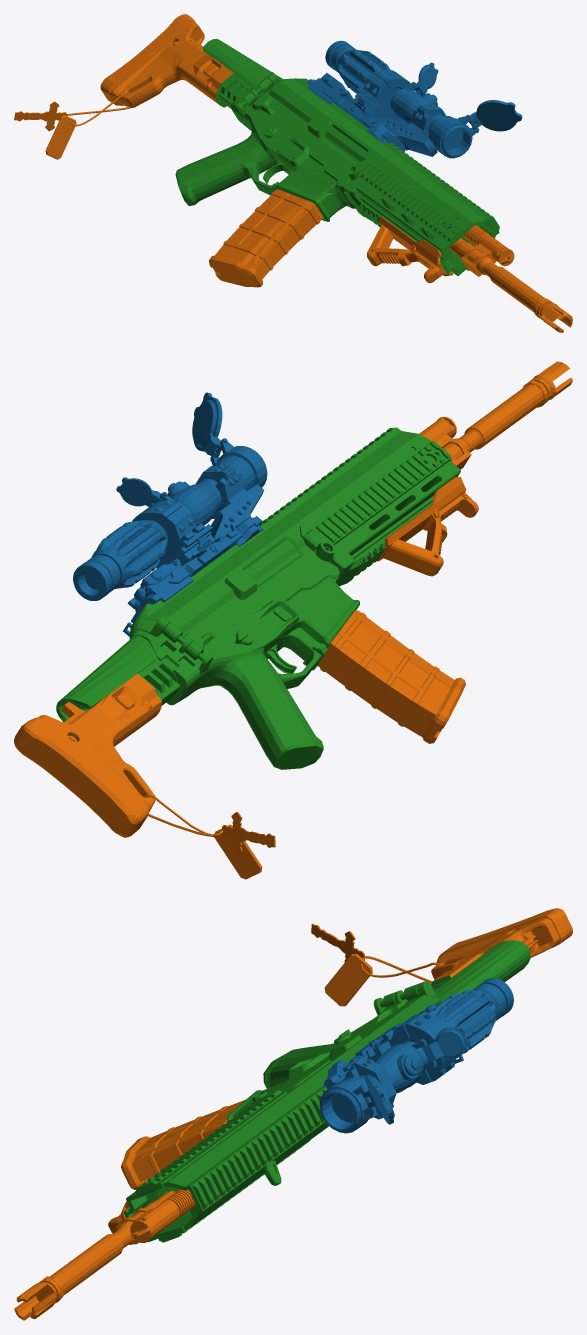
File: rifle_k3.glb
3 renders of one model, top to bottom at view 1: azimuth 30°, elevation 25°; view 2: azimuth 150°, elevation 25°; view 3: azimuth 330°, elevation 25°, orthographic. The views are drawn at different scales.
Visible parts, largest first — view 1: world; view 2: world; view 3: world.
Boxes of the visible parts, box(x1,y1,x2,y2) form: world: box(14, 14, 572, 332); world: box(14, 361, 572, 879); world: box(14, 908, 572, 1320).
Size of the model in its own units: 0.8026 by 0.4502 by 1.93.
